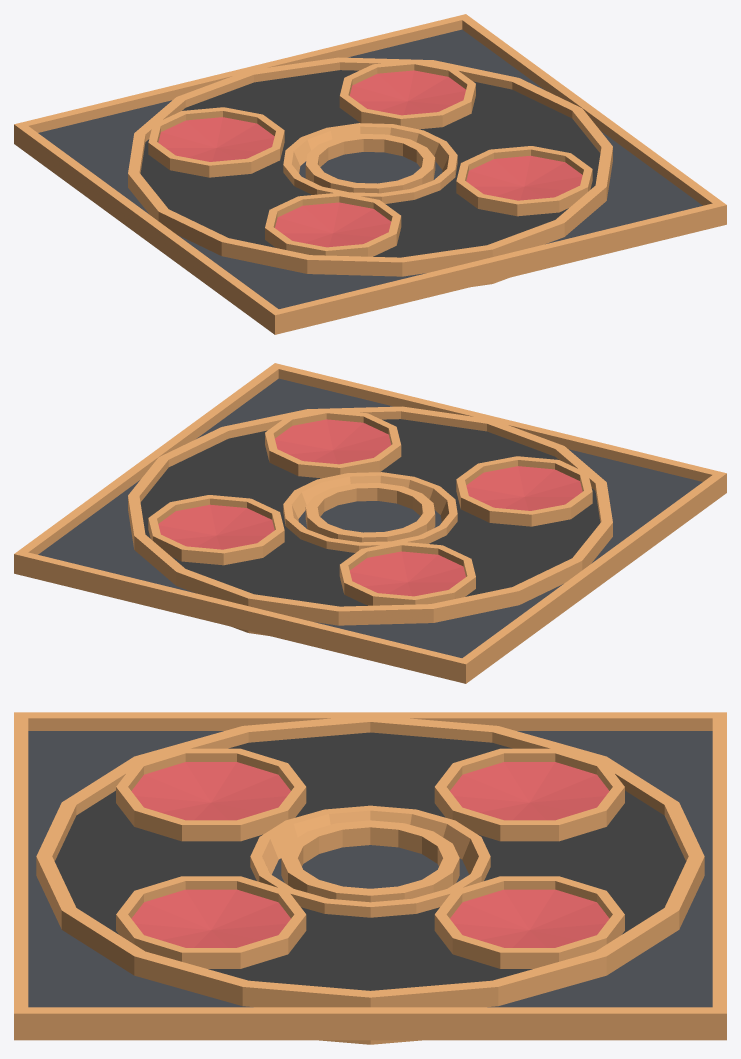
The model's file is SpikeGimmicLower.fbx.
3 views of the same model, one above another, from view 1: azimuth 30°, elevation 25°; view 2: azimuth 150°, elevation 25°; view 3: azimuth 270°, elevation 25° (orthographic). The views are drawn at different scales.
Parts seen in each view (by area): view 1: Mesh; view 2: Mesh; view 3: Mesh.
Boxes of the visible parts, left/top/right/bottom form: Mesh: left=14, top=14, right=726, bottom=334; Mesh: left=14, top=363, right=726, bottom=683; Mesh: left=14, top=712, right=726, bottom=1044.
Size of the model in its own units: 1 by 0.1234 by 1.
